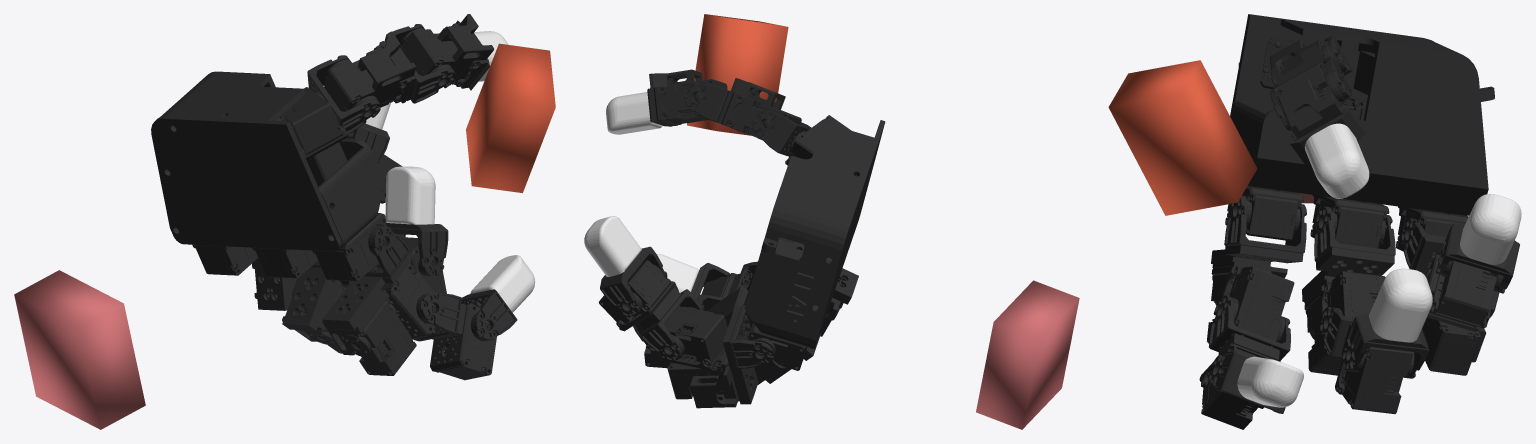
Rendered from prediction.glb.
3 renders of one model, left to right at view 1: azimuth 30°, elevation 25°; view 2: azimuth 150°, elevation 25°; view 3: azimuth 270°, elevation 25°, orthographic. The views are drawn at different scales.
Parts seen in each view (by area): view 1: HAND__012__meshes__visual__palm_lower.glb__black_metal, OBJECT__00__recorded_box, OBJECT__01__recorded_box, HAND__009__meshes__visual__mcp_joint.glb__black_metal, HAND__017__meshes__visual__thumb_dip.glb__black_metal, HAND__000__meshes__visual__dip.glb__black_metal, HAND__019__meshes__visual__thumb_fingertip.glb_1__black_meta, HAND__010__meshes__visual__mcp_joint.glb_1__black_metal, HAND__005__meshes__visual__fingertip.glb_2__White_tip, HAND__016__meshes__visual__pip.glb_3__black_metal, HAND__013__meshes__visual__pip.glb__black_metal, HAND__003__meshes__visual__fingertip.glb__White_tip (+6 smaller); view 2: HAND__012__meshes__visual__palm_lower.glb__black_metal, OBJECT__00__recorded_box, OBJECT__01__recorded_box, HAND__011__meshes__visual__mcp_joint.glb_2__black_metal, HAND__002__meshes__visual__dip.glb_2__black_metal, HAND__017__meshes__visual__thumb_dip.glb__black_metal, HAND__015__meshes__visual__pip.glb_2__black_metal, HAND__019__meshes__visual__thumb_fingertip.glb_1__black_meta, HAND__007__meshes__visual__fingertip.glb_4__White_tip, HAND__018__meshes__visual__thumb_fingertip.glb__White_tip, HAND__008__meshes__visual__fingertip.glb_5__black_metal, HAND__020__meshes__visual__thumb_pip.glb__black_metal (+8 smaller); view 3: HAND__012__meshes__visual__palm_lower.glb__black_metal, OBJECT__01__recorded_box, HAND__010__meshes__visual__mcp_joint.glb_1__black_metal, HAND__001__meshes__visual__dip.glb_1__black_metal, HAND__000__meshes__visual__dip.glb__black_metal, HAND__011__meshes__visual__mcp_joint.glb_2__black_metal, HAND__009__meshes__visual__mcp_joint.glb__black_metal, HAND__019__meshes__visual__thumb_fingertip.glb_1__black_meta, HAND__002__meshes__visual__dip.glb_2__black_metal, HAND__013__meshes__visual__pip.glb__black_metal, HAND__005__meshes__visual__fingertip.glb_2__White_tip, HAND__018__meshes__visual__thumb_fingertip.glb__White_tip (+9 smaller).
Part boxes in pixels (bbox=[...]): HAND__012__meshes__visual__palm_lower.glb__black_metal: bbox=[151, 71, 389, 281]; OBJECT__00__recorded_box: bbox=[14, 270, 145, 429]; OBJECT__01__recorded_box: bbox=[466, 43, 555, 192]; HAND__009__meshes__visual__mcp_joint.glb__black_metal: bbox=[322, 226, 416, 375]; HAND__017__meshes__visual__thumb_dip.glb__black_metal: bbox=[324, 24, 455, 111]; HAND__000__meshes__visual__dip.glb__black_metal: bbox=[413, 293, 496, 380]; HAND__019__meshes__visual__thumb_fingertip.glb_1__black_meta: bbox=[400, 14, 493, 90]; HAND__010__meshes__visual__mcp_joint.glb_1__black_metal: bbox=[282, 261, 345, 353]; HAND__005__meshes__visual__fingertip.glb_2__White_tip: bbox=[385, 166, 435, 224]; HAND__016__meshes__visual__pip.glb_3__black_metal: bbox=[275, 87, 347, 159]; HAND__013__meshes__visual__pip.glb__black_metal: bbox=[381, 264, 442, 339]; HAND__003__meshes__visual__fingertip.glb__White_tip: bbox=[470, 255, 535, 312]; HAND__012__meshes__visual__palm_lower.glb__black_metal: bbox=[744, 120, 885, 370]; OBJECT__00__recorded_box: bbox=[976, 280, 1079, 429]; OBJECT__01__recorded_box: bbox=[687, 14, 788, 135]; HAND__011__meshes__visual__mcp_joint.glb_2__black_metal: bbox=[667, 305, 774, 408]; HAND__002__meshes__visual__dip.glb_2__black_metal: bbox=[599, 260, 702, 361]; HAND__017__meshes__visual__thumb_dip.glb__black_metal: bbox=[684, 78, 801, 140]; HAND__015__meshes__visual__pip.glb_2__black_metal: bbox=[662, 305, 727, 369]; HAND__019__meshes__visual__thumb_fingertip.glb_1__black_meta: bbox=[647, 69, 727, 126]; HAND__007__meshes__visual__fingertip.glb_4__White_tip: bbox=[584, 216, 641, 276]; HAND__018__meshes__visual__thumb_fingertip.glb__White_tip: bbox=[606, 92, 662, 134]; HAND__008__meshes__visual__fingertip.glb_5__black_metal: bbox=[600, 246, 667, 317]; HAND__020__meshes__visual__thumb_pip.glb__black_metal: bbox=[752, 110, 811, 156]; HAND__012__meshes__visual__palm_lower.glb__black_metal: bbox=[1225, 14, 1494, 251]; OBJECT__01__recorded_box: bbox=[1108, 60, 1257, 215]; HAND__010__meshes__visual__mcp_joint.glb_1__black_metal: bbox=[1302, 206, 1395, 375]; HAND__001__meshes__visual__dip.glb_1__black_metal: bbox=[1320, 307, 1414, 414]; HAND__000__meshes__visual__dip.glb__black_metal: bbox=[1199, 295, 1290, 429]; HAND__011__meshes__visual__mcp_joint.glb_2__black_metal: bbox=[1401, 218, 1486, 375]; HAND__009__meshes__visual__mcp_joint.glb__black_metal: bbox=[1207, 195, 1306, 343]; HAND__019__meshes__visual__thumb_fingertip.glb_1__black_meta: bbox=[1277, 65, 1365, 166]; HAND__002__meshes__visual__dip.glb_2__black_metal: bbox=[1426, 254, 1503, 328]; HAND__013__meshes__visual__pip.glb__black_metal: bbox=[1215, 266, 1294, 342]; HAND__005__meshes__visual__fingertip.glb_2__White_tip: bbox=[1369, 268, 1432, 342]; HAND__018__meshes__visual__thumb_fingertip.glb__White_tip: bbox=[1304, 123, 1369, 198].
Bounding box in the file's own units: 0.2971 × 0.2022 × 0.2007.
